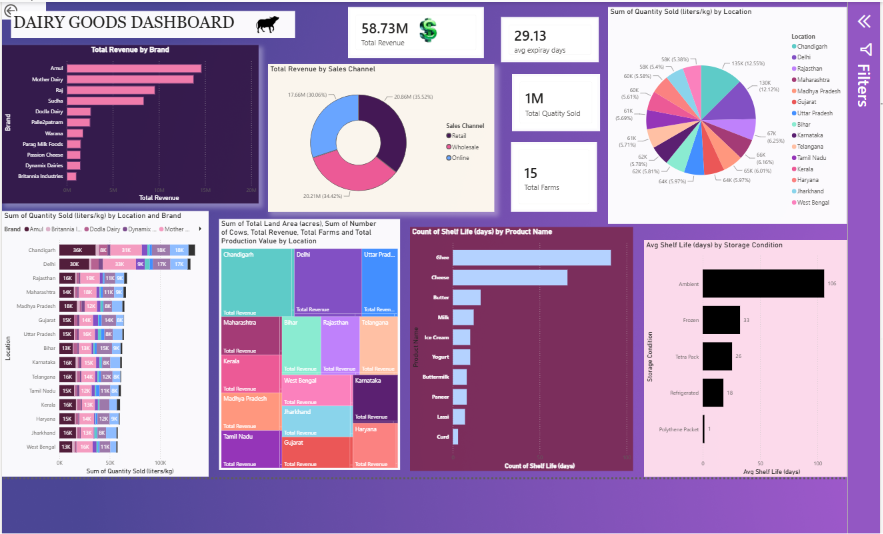

The dashboard page shown, as its layout file describes it:
{"tool":"powerbi","page":{"name":"Page 1","canvas":[1920,1080],"ordinal":0},"visuals":[{"type":"actionButton","box":[0,0,100,40],"z":0},{"type":"treemap","fields":{"Values":["Sum(dairy_dataset.Total Land Area (acres))","Sum(dairy_dataset.Number of Cows)","dairy_dataset.Total Revenue"],"Group":["dairy_dataset.Location"]},"box":[492.9,492.9,411.1,570.1],"z":1000},{"type":"textbox","box":[20.4,20.4,645.1,61.3],"z":2000},{"type":"image","box":[540.6,20.4,125.7,62.1],"z":3000},{"type":"clusteredBarChart","fields":{"Category":["dairy_dataset.Brand"],"Y":["dairy_dataset.Total Revenue"]},"box":[0,96.7,582.6,360],"z":4000},{"type":"barChart","fields":{"Series":["dairy_dataset.Brand"],"Category":["dairy_dataset.Location"],"Y":["Sum(dairy_dataset.Quantity Sold (liters/kg))"]},"box":[0,475.5,469.3,603.1],"z":5000},{"type":"clusteredBarChart","fields":{"Category":["dairy_dataset.Storage Condition"],"Y":["dairy_dataset.Avg Shelf Life (days)"]},"box":[1458.2,540.6,461.1,538.3],"z":6000},{"type":"donutChart","fields":{"Category":["dairy_dataset.Sales Channel"],"Y":["dairy_dataset.Total Revenue"]},"box":[603.1,140,514,336.3],"z":7000},{"type":"pieChart","fields":{"Category":["dairy_dataset.Location"],"Y":["Sum(dairy_dataset.Quantity Sold (liters/kg))"]},"box":[1376.4,11.4,542.8,492.9],"z":8000},{"type":"barChart","fields":{"Category":["dairy_dataset.Product Name"],"Y":["Count(dairy_dataset.Shelf Life (days))"]},"box":[926.7,511,506.5,554.2],"z":9000},{"type":"cardVisual","fields":{"Data":["dairy_dataset.Total Revenue"]},"box":[785.9,11.4,308.9,115.8],"z":10000},{"type":"image","box":[904,34.1,125.7,59.1],"z":11000},{"type":"cardVisual","fields":{"Data":["dairy_dataset.Total Quatity Sold"]},"box":[1158.4,163.5,199.7,129.7],"z":12000},{"type":"cardVisual","fields":{"Data":["dairy_dataset.avg expiray days"]},"box":[1133.4,34.1,222.3,102.9],"z":13000},{"type":"cardVisual","fields":{"Data":["dairy_dataset.Total Farms"]},"box":[1156.9,317,195.6,158.5],"z":14000}]}

Visuals, with their boxes in screenshot pixels (x1, y1, x2, y2):
actionButton: [2, 0, 46, 17]
treemap - Sum(dairy_dataset.Total Land Area (acres)) x Sum(dairy_dataset.Number of Cows): [218, 216, 398, 465]
textbox: [11, 9, 293, 36]
image: [239, 9, 294, 36]
clusteredBarChart - dairy_dataset.Brand x dairy_dataset.Total Revenue: [2, 42, 257, 200]
barChart - dairy_dataset.Brand x dairy_dataset.Location: [2, 208, 208, 472]
clusteredBarChart - dairy_dataset.Storage Condition x dairy_dataset.Avg Shelf Life (days): [640, 236, 842, 472]
donutChart - dairy_dataset.Sales Channel x dairy_dataset.Total Revenue: [266, 61, 491, 208]
pieChart - dairy_dataset.Location x Sum(dairy_dataset.Quantity Sold (liters/kg)): [604, 5, 842, 221]
barChart - dairy_dataset.Product Name x Count(dairy_dataset.Shelf Life (days)): [408, 224, 629, 466]
cardVisual - dairy_dataset.Total Revenue: [346, 5, 481, 56]
image: [398, 15, 453, 41]
cardVisual - dairy_dataset.Total Quatity Sold: [509, 72, 596, 128]
cardVisual - dairy_dataset.avg expiray days: [498, 15, 595, 60]
cardVisual - dairy_dataset.Total Farms: [508, 139, 594, 208]
